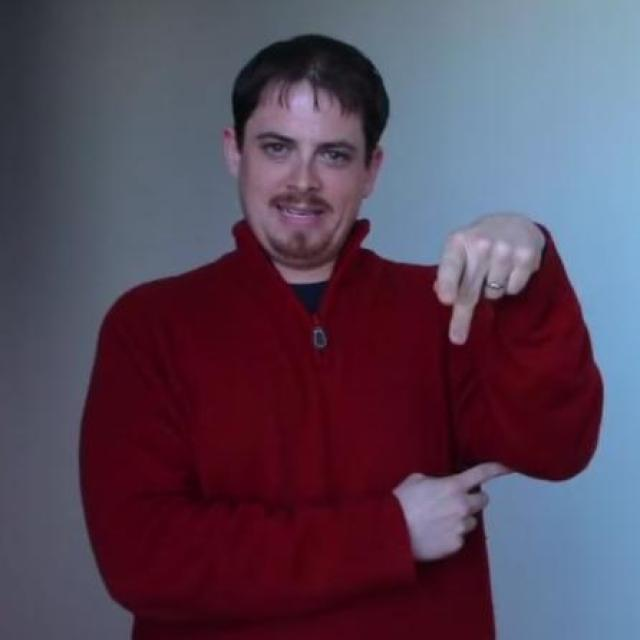P: (429, 210, 550, 347)
